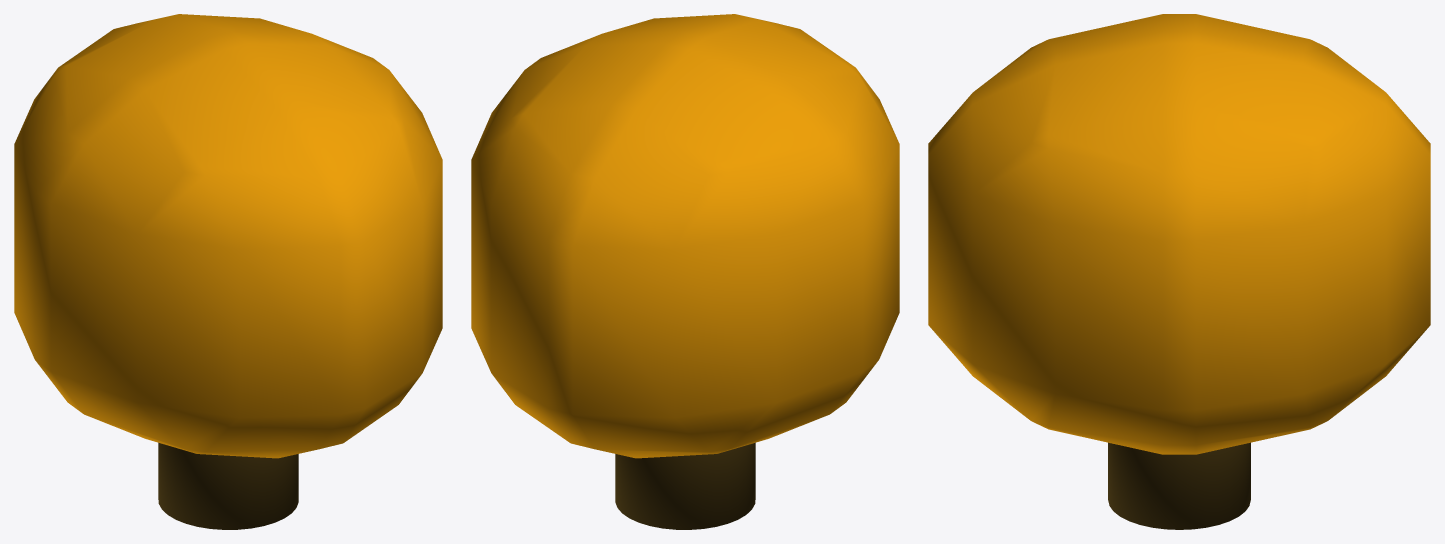
Rendered from Tree.fbx.
3 views of the same model, side by side, from view 1: azimuth 30°, elevation 25°; view 2: azimuth 150°, elevation 25°; view 3: azimuth 270°, elevation 25° (orthographic).
Visible parts, largest first — view 1: Cube.001, Cylinder; view 2: Cube.001, Cylinder; view 3: Cube.001, Cylinder.
Part boxes in pixels (left/top/right/bottom): Cube.001: left=14, top=14, right=442, bottom=458; Cylinder: left=158, top=442, right=298, bottom=529; Cube.001: left=471, top=14, right=899, bottom=458; Cylinder: left=615, top=442, right=755, bottom=529; Cube.001: left=928, top=14, right=1430, bottom=454; Cylinder: left=1108, top=442, right=1250, bottom=529.
Size of the model in its own units: 184 by 217 by 214.
